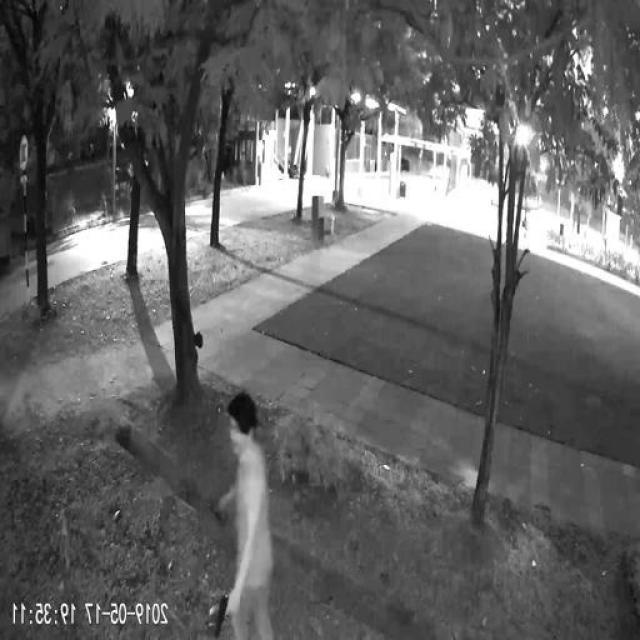Gun: (216, 589, 240, 635)
